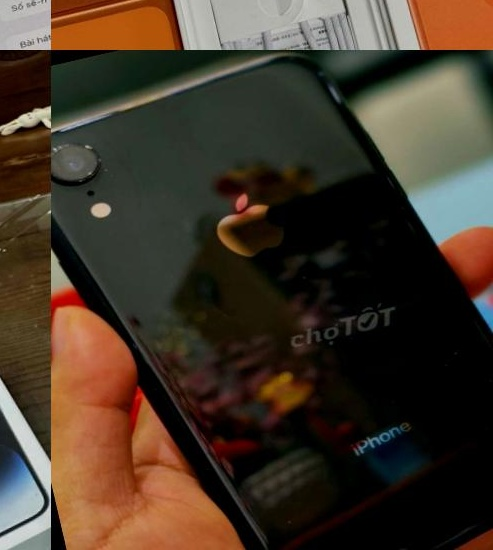scratch: (84, 147, 113, 175), (288, 267, 317, 287), (78, 135, 98, 160), (478, 366, 493, 392), (51, 156, 63, 185), (478, 422, 493, 436), (280, 518, 296, 530), (446, 347, 459, 360), (51, 141, 60, 159), (51, 199, 57, 217)
